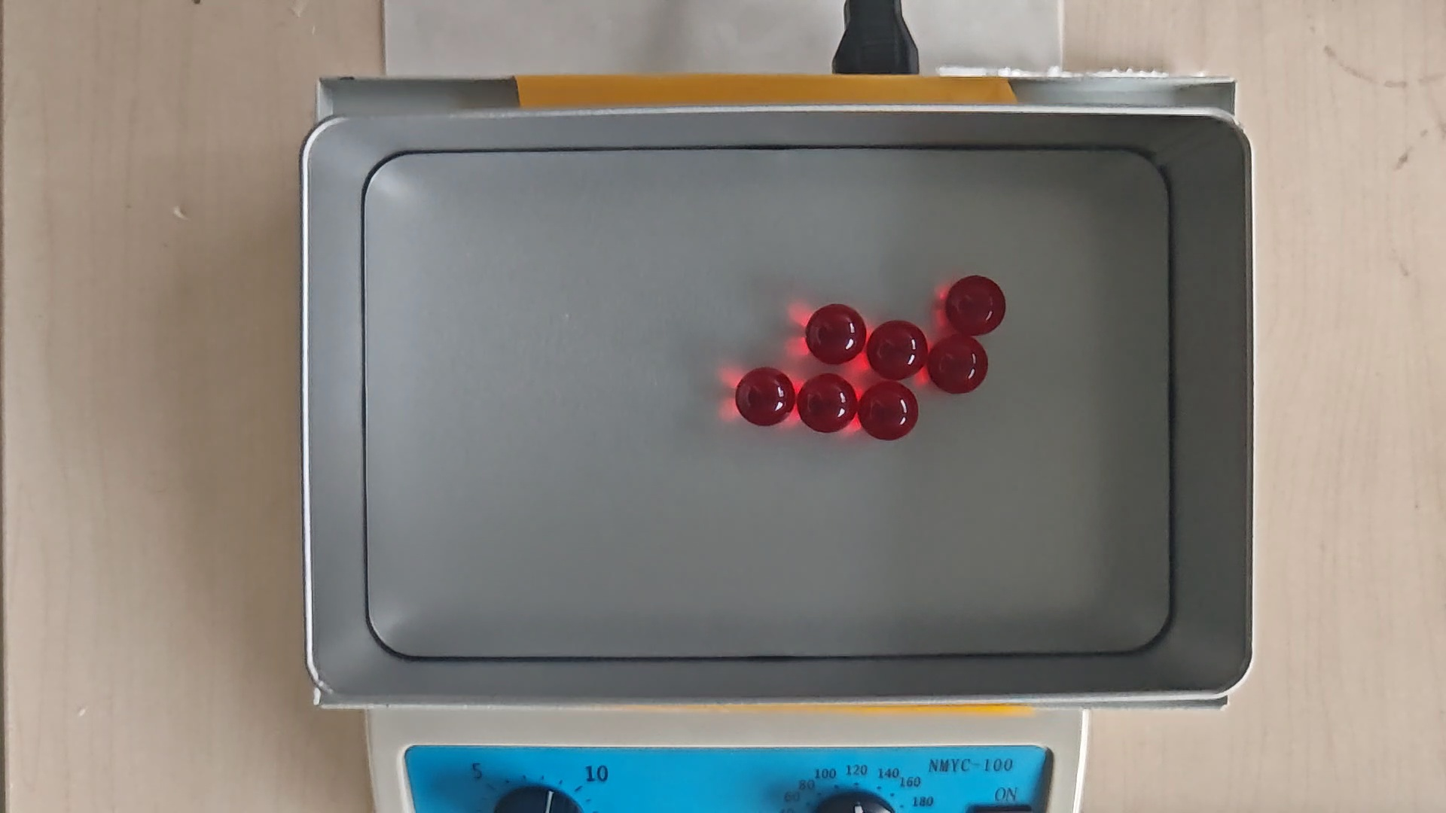ball: (928, 335, 990, 397), (800, 373, 858, 435), (947, 275, 1005, 335), (737, 367, 794, 428), (869, 318, 926, 379), (808, 303, 864, 364), (861, 383, 917, 443)
container: (364, 147, 1171, 658)
